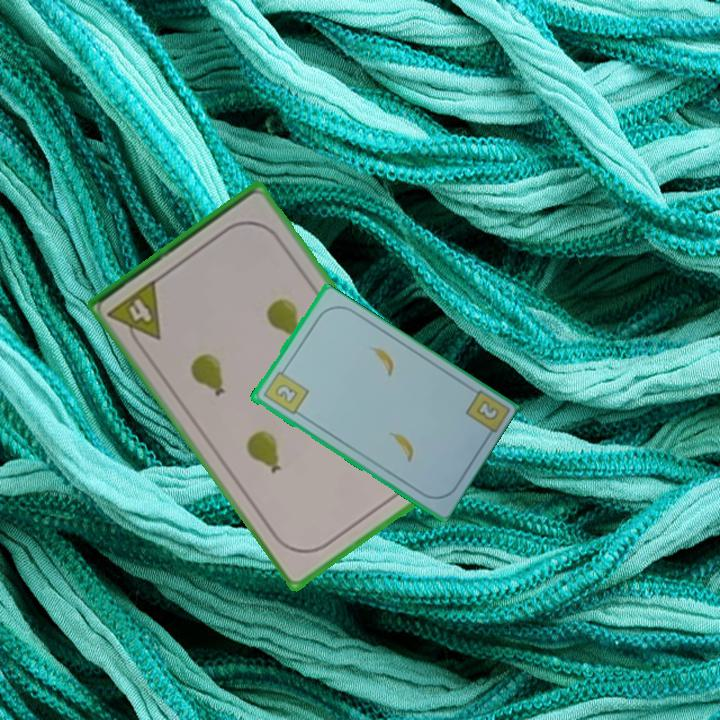2b: (259, 364, 311, 417), (472, 397, 502, 423)
4p: (104, 275, 165, 353)
